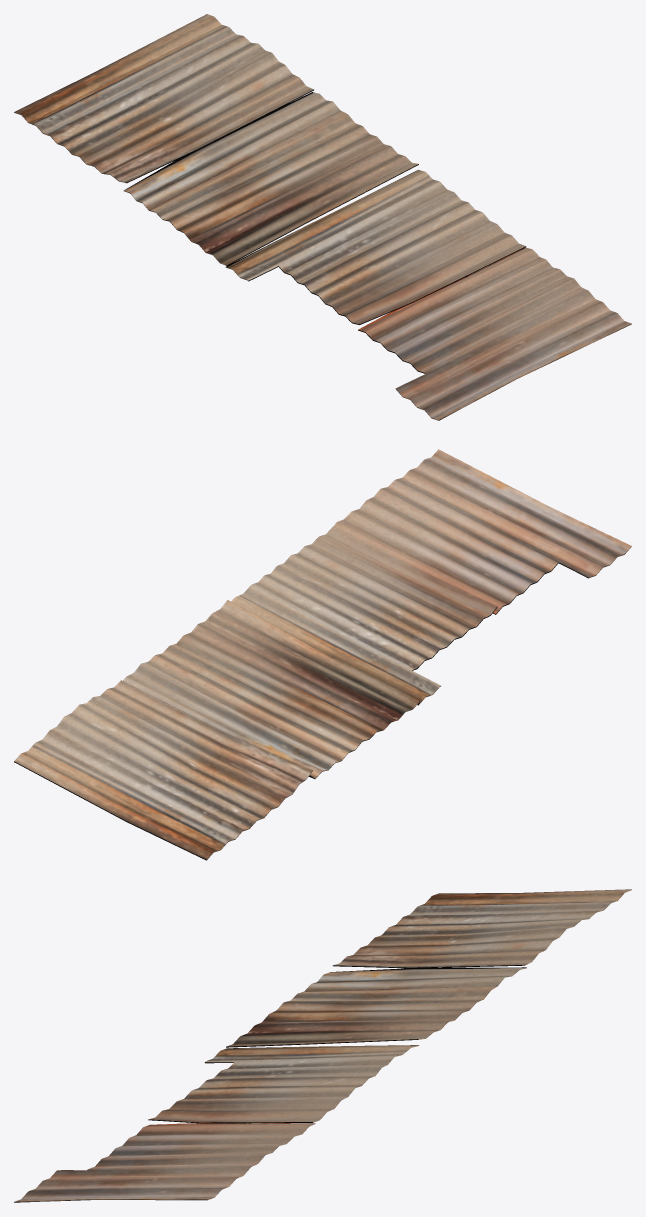
3 views of the same model, one above another, from view 1: azimuth 30°, elevation 25°; view 2: azimuth 150°, elevation 25°; view 3: azimuth 330°, elevation 25° (orthographic).
Parts seen in each view (by area): view 1: Object_40; view 2: Object_40; view 3: Object_40.
Part boxes in pixels (bbox=[...]): Object_40: bbox=[14, 14, 631, 420]; Object_40: bbox=[14, 449, 631, 860]; Object_40: bbox=[14, 889, 631, 1202].
Bounding box in the file's own units: 2.72 × 0.8128 × 10.27.
Materials: 1 (1 with a texture image).
